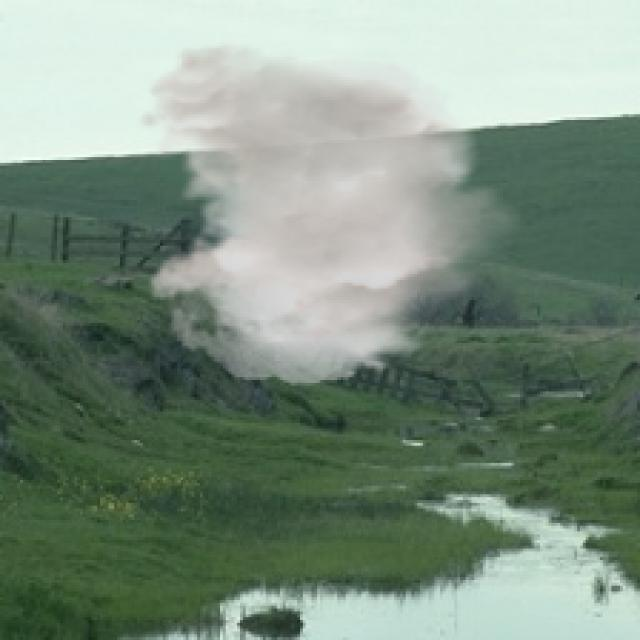smoke: (137, 43, 529, 386)
